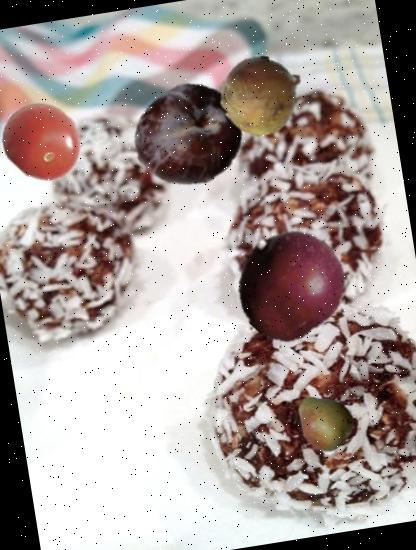Nectarine: (226, 222, 354, 348)
Onion: (214, 50, 308, 143)
Pear: (288, 386, 359, 458)
Plum: (126, 74, 252, 200)
Tomato: (0, 94, 90, 188)
